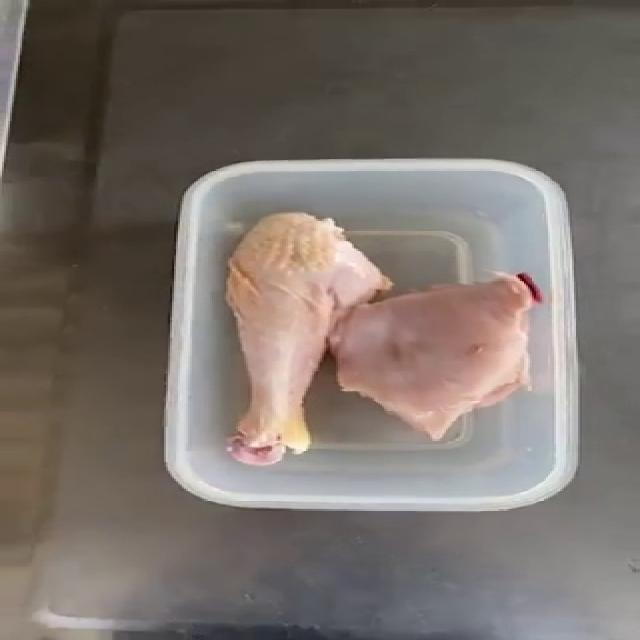chicken: (210, 204, 536, 470)
